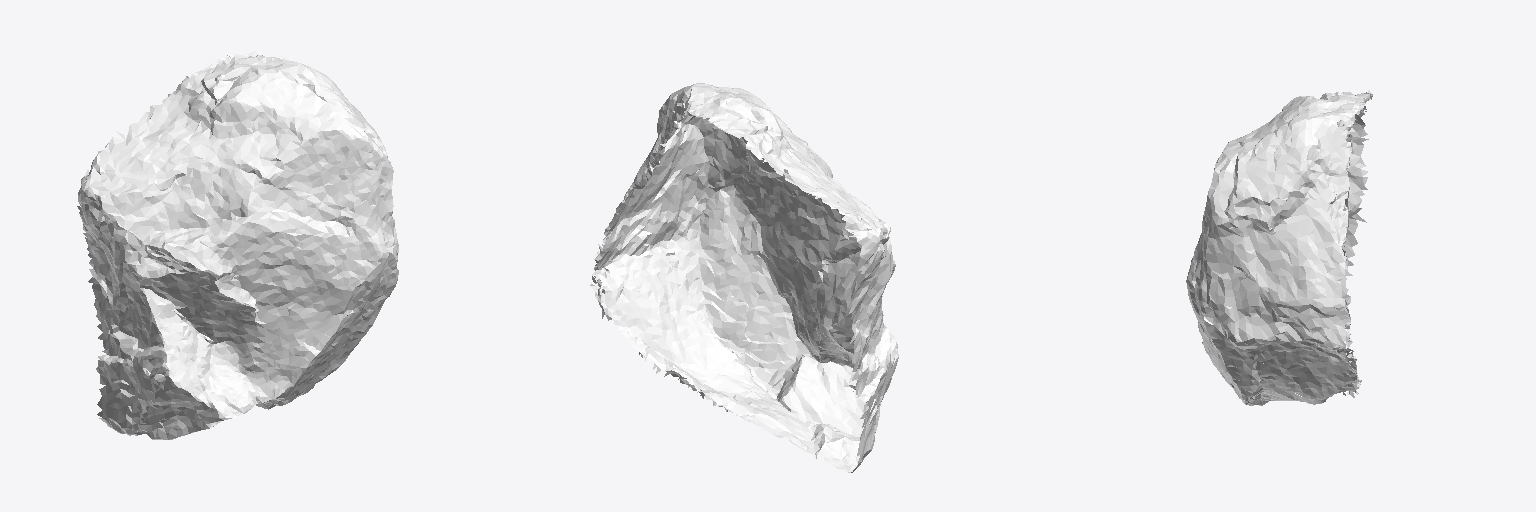
The model's file is Rock_Obj_01.obj.
3 views of the same model, side by side, from view 1: azimuth 30°, elevation 25°; view 2: azimuth 150°, elevation 25°; view 3: azimuth 270°, elevation 25° (orthographic).
Parts seen in each view (by area): view 1: default; view 2: default; view 3: default.
Part boxes in pixels (bbox=[...]): default: bbox=[77, 51, 398, 439]; default: bbox=[590, 83, 898, 472]; default: bbox=[1186, 90, 1372, 405].
Size of the model in its own units: 10.27 by 11.4 by 5.82.